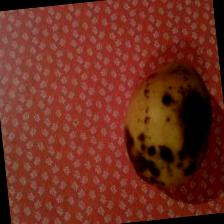Mango Overripe: (119, 60, 218, 184)
